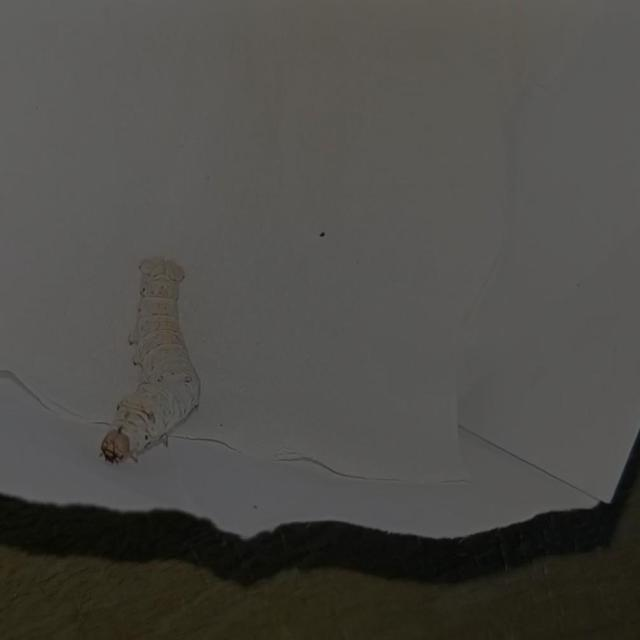Healthy: (83, 232, 261, 523)
